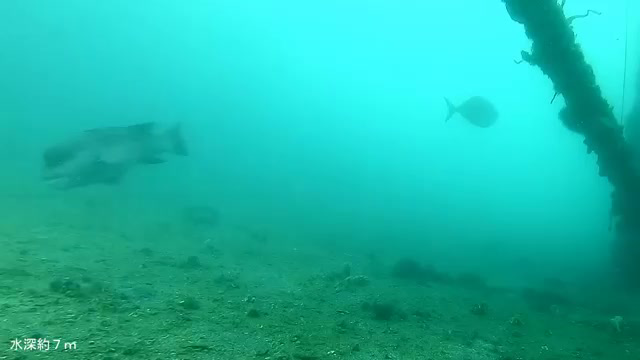smallfish: (439, 83, 511, 138)
